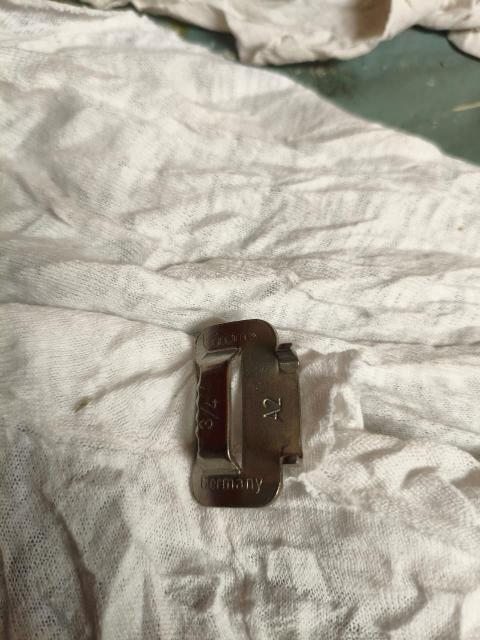Metal: (190, 323, 302, 513)
